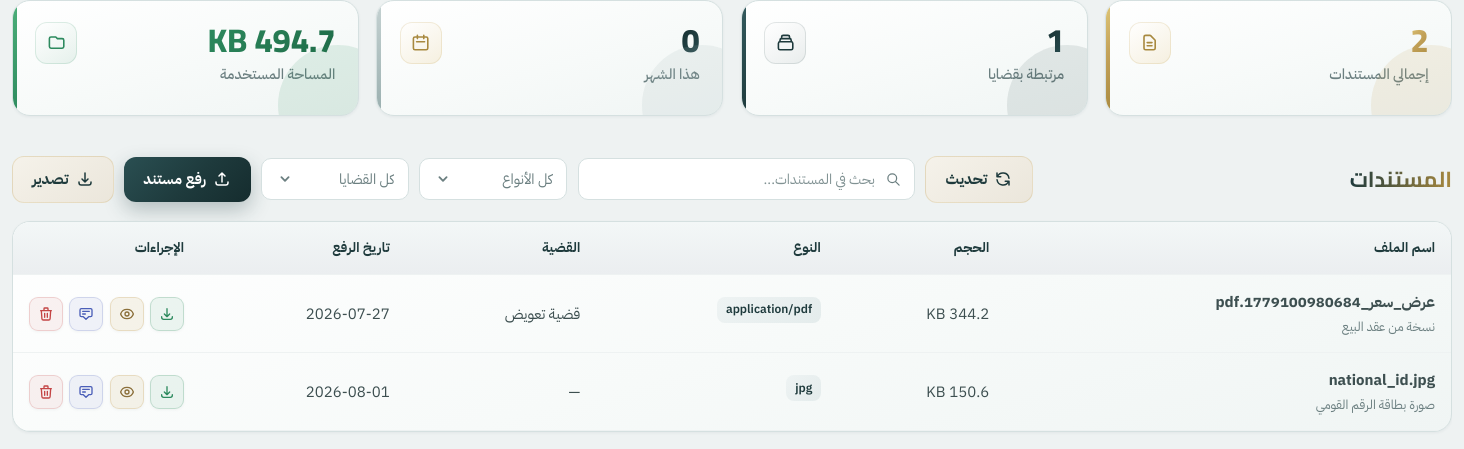
Test: DocumentsPage Feature Tests › filters documents by search query
Expected: the text "عرض_سعر_1779100980684.pdf" is shown, [1216,291,1435,313]
Expected: the text "national_id.jpg" is shown, [1329,369,1435,391]
Step 1. Type "هوية" into the search field with placeholder "بحث في المستندات..." → (746, 180), box [578,158,915,200]
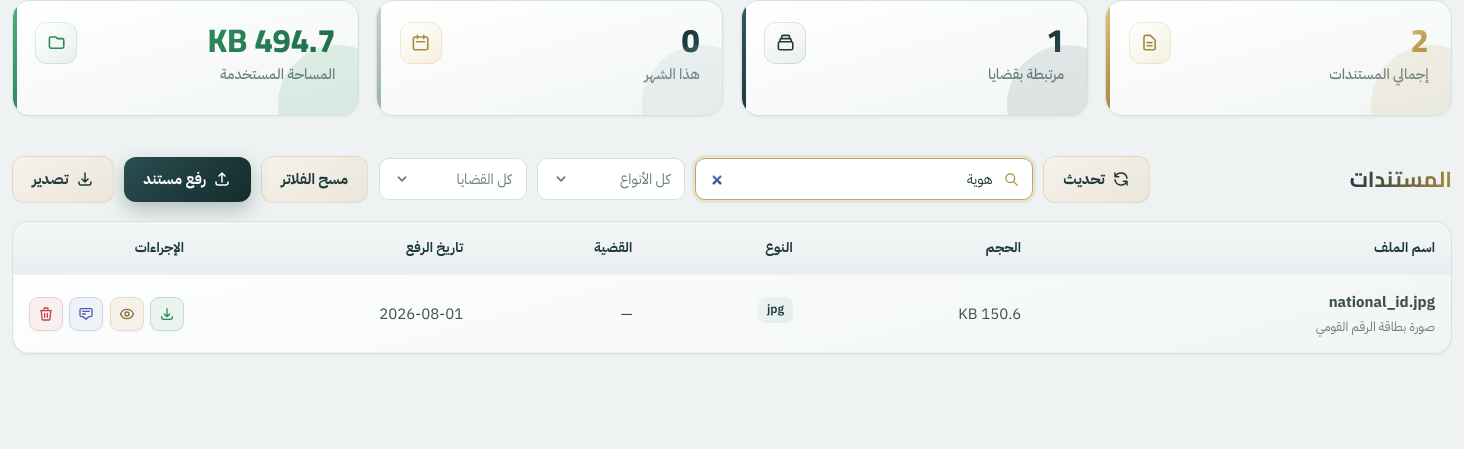
Expected: the text "national_id.jpg" is shown, [1329,291,1435,313]
Now the text "عرض_سعر_1779100980684.pdf" is gone
